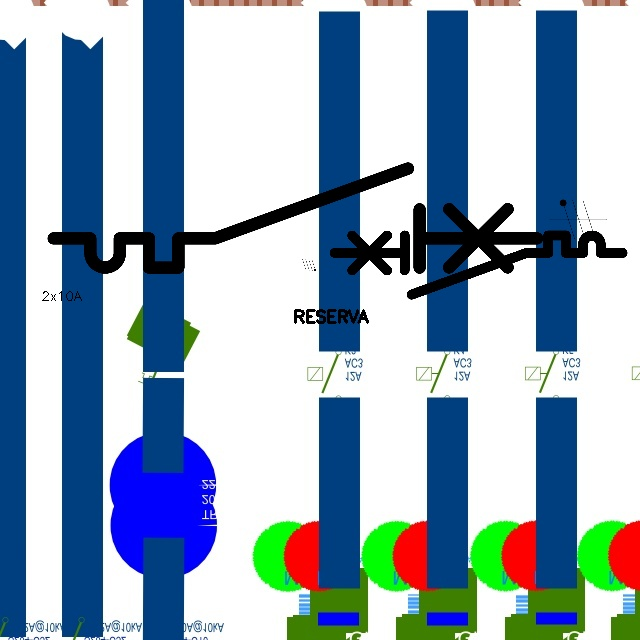interruptor_termomagnetico: (41, 156, 549, 280), (327, 228, 629, 302)
